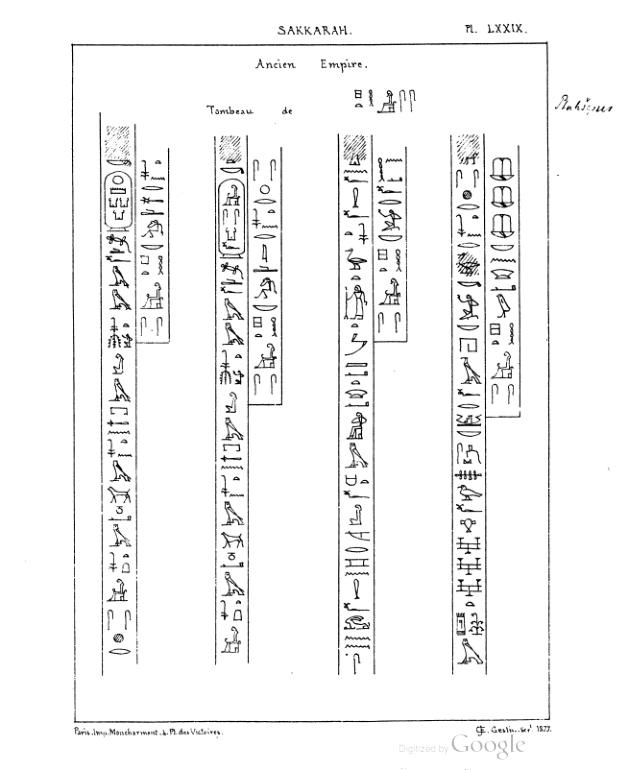circle: (216, 179, 248, 260), (104, 169, 133, 234)
